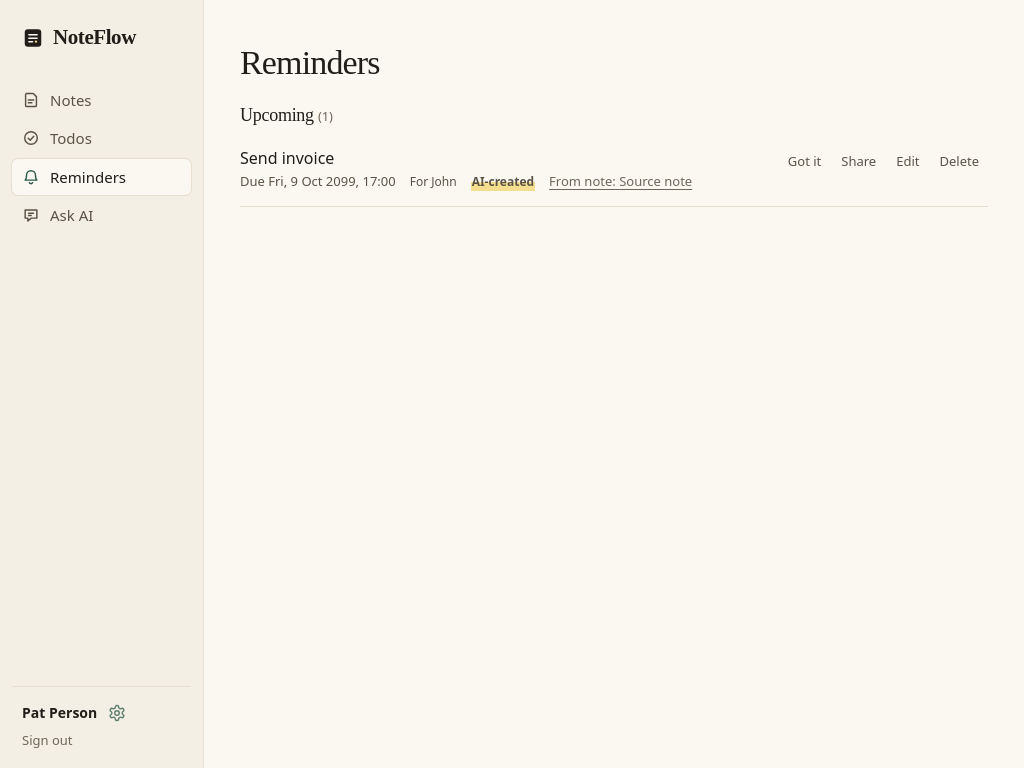
Scenario: editing › will not clear the due date: a reminder keeps a date and a time
Click the button with aria-label "edit: send invoice". click: (908, 161)
box: 887,147 -> 928,175
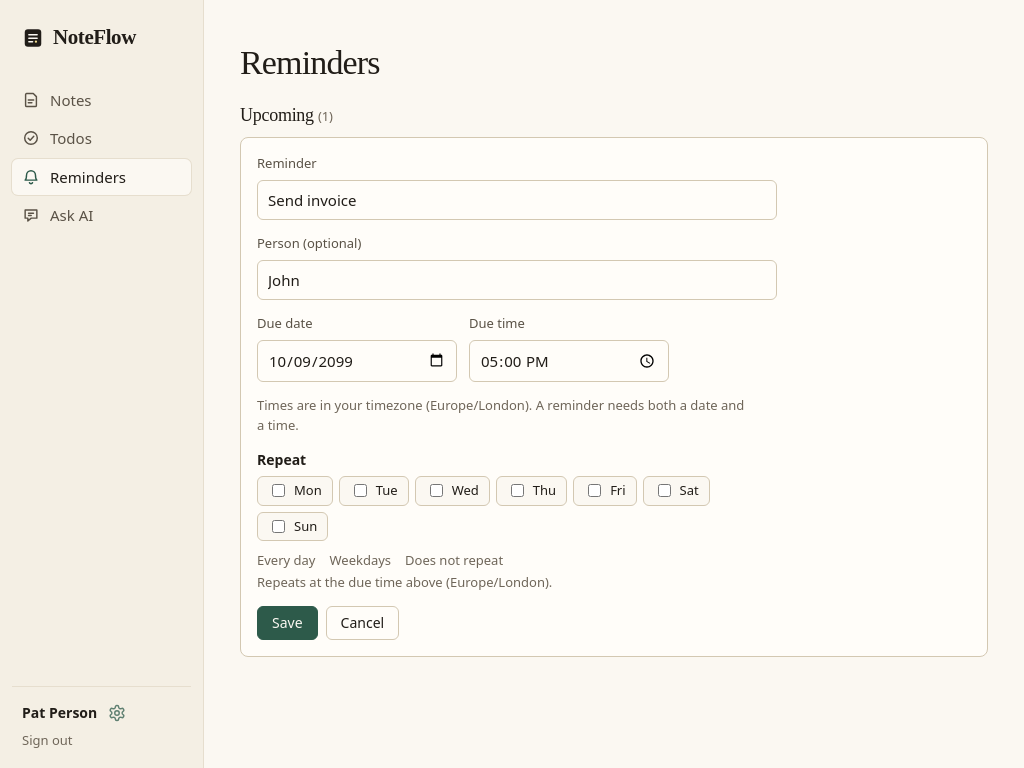
Clear the date field labelled "Due date". click: (357, 361)
box: 257,340 -> 457,382
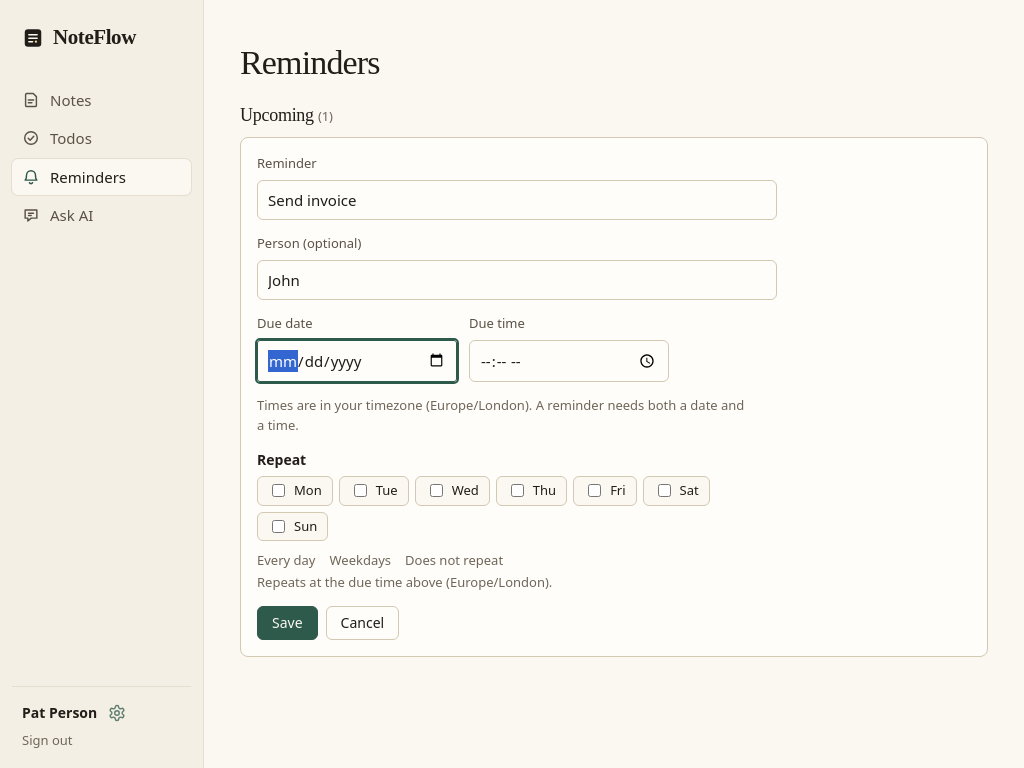
Click the button "Save". click: (287, 623)
box: 257,606 -> 318,640
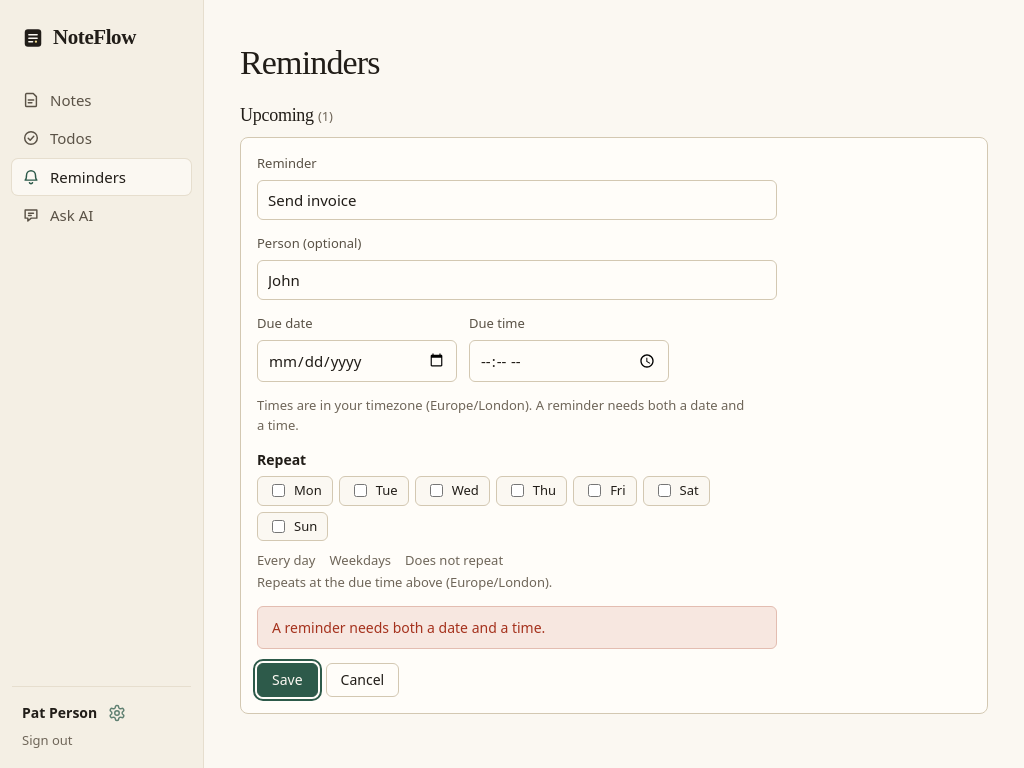
Check: the message shows "needs both a date and a time", box 272,618 -> 545,637
